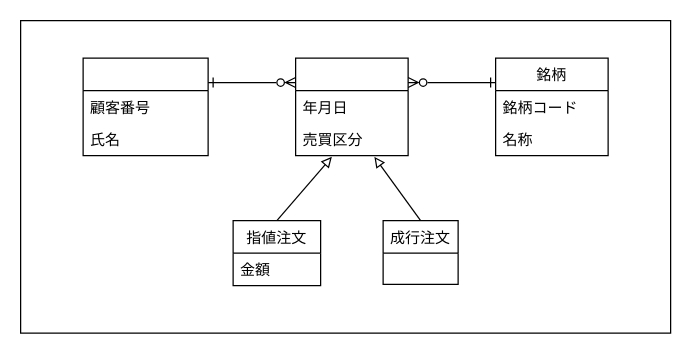
Some shapes in this 691 by 354 pixel diagram are drawn without their labels. The shapes that lost their labels are listed below. From the top down, each one's box as (x1, y1, x2, y2) in pixels, then its label:
(82, 57, 208, 156): 顧客
(294, 57, 408, 156): 注文
